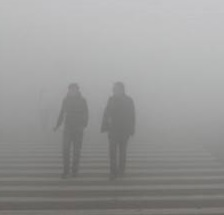person: (52, 81, 89, 180), (101, 80, 136, 182)
